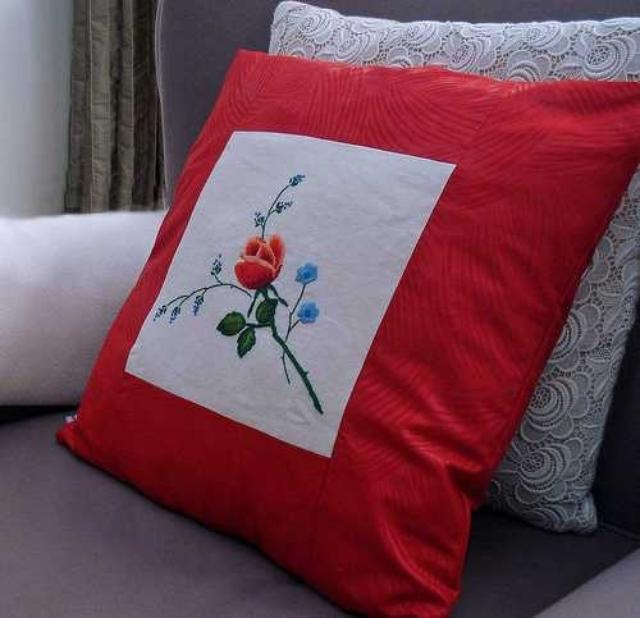pillow: (54, 45, 638, 617)
